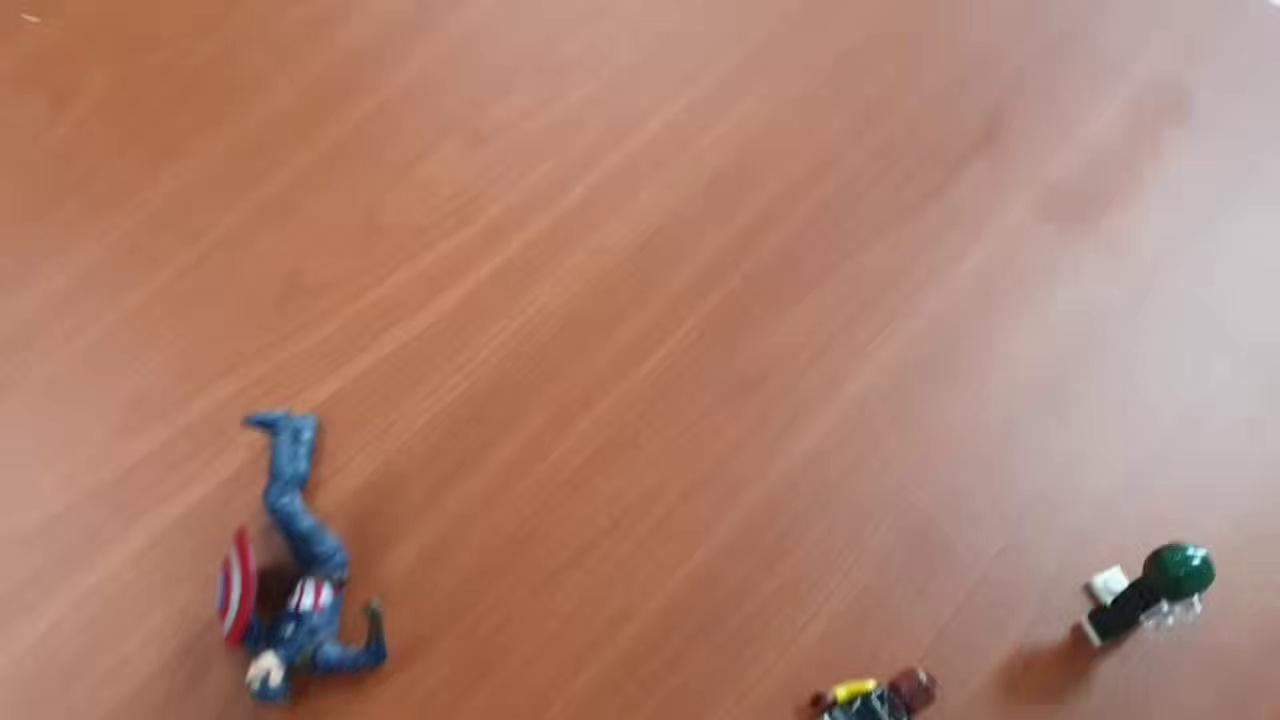people: (210, 406, 390, 719), (1075, 537, 1217, 659)
